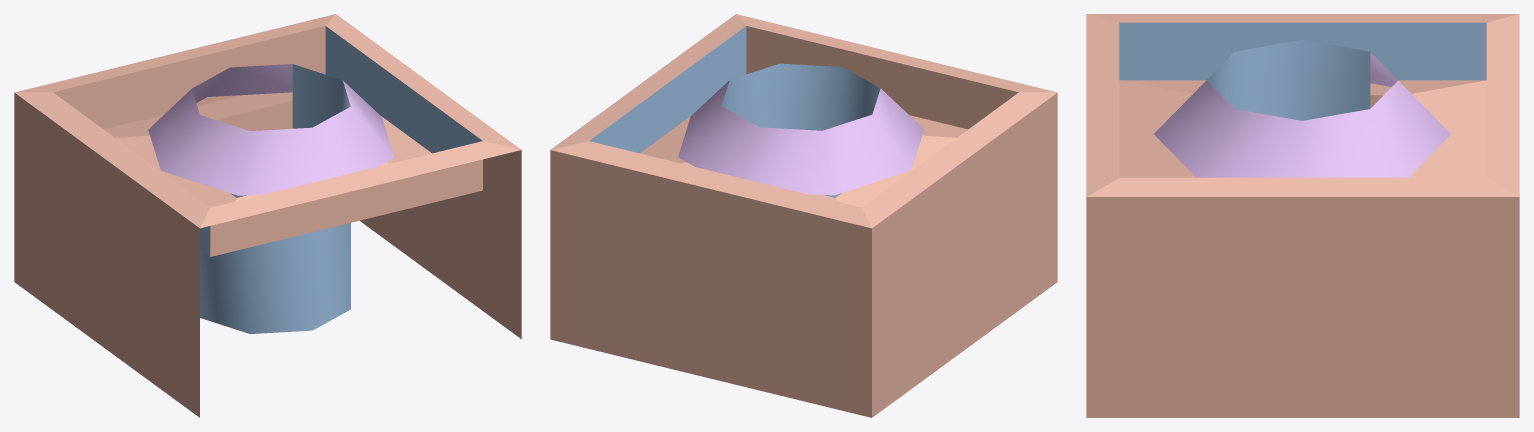
The picture shows the model from 3 angles, left to right: view 1: azimuth 30°, elevation 25°; view 2: azimuth 150°, elevation 25°; view 3: azimuth 270°, elevation 25°; orthographic projection. The views are drawn at different scales.
Visible parts, largest first — view 1: Object52; view 2: Object52; view 3: Object52.
Boxes of the visible parts, box(x1,y1,x2,y2) form: Object52: box(14, 14, 521, 417); Object52: box(550, 14, 1057, 417); Object52: box(1086, 14, 1519, 417).
Size of the model in its own units: 10000 by 6315 by 10000.
